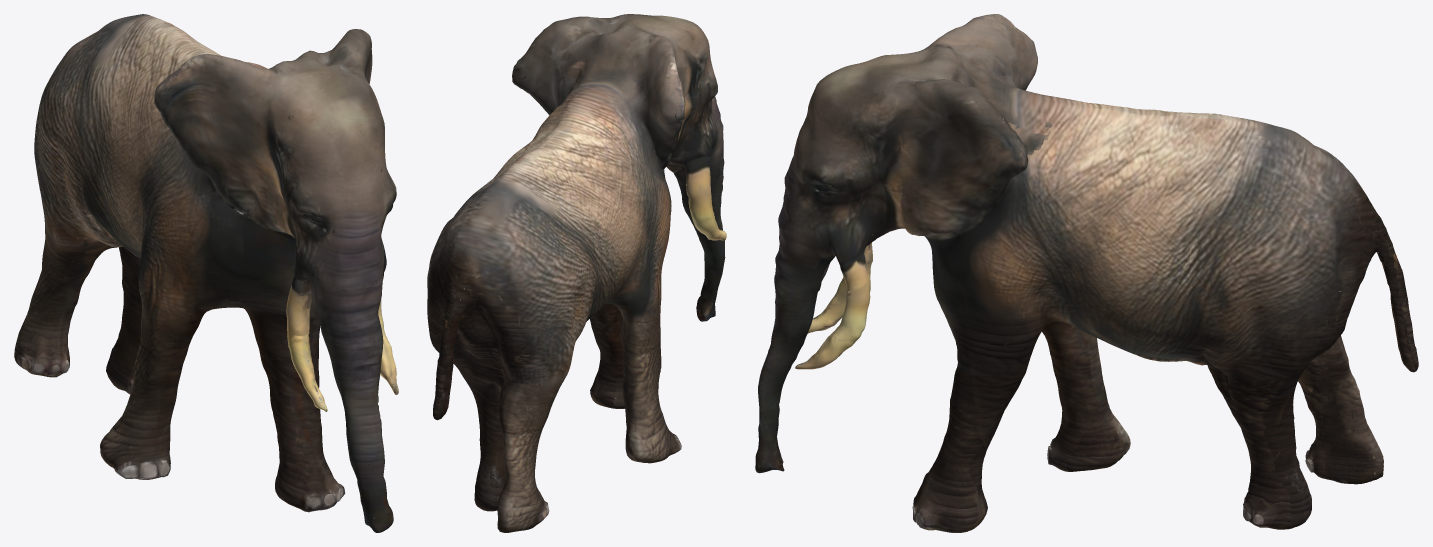
The model's file is elefante.fbx.
3 renders of one model, left to right at view 1: azimuth 30°, elevation 25°; view 2: azimuth 150°, elevation 25°; view 3: azimuth 270°, elevation 25°, orthographic. The views are drawn at different scales.
Parts seen in each view (by area): view 1: elefante:Mesh; view 2: elefante:Mesh; view 3: elefante:Mesh.
Part boxes in pixels (box(x1,y1,x2,y2)): elefante:Mesh: box(14, 14, 398, 532); elefante:Mesh: box(427, 14, 726, 532); elefante:Mesh: box(755, 14, 1418, 532).
Size of the model in its own units: 3.24 by 6.28 by 7.98.
